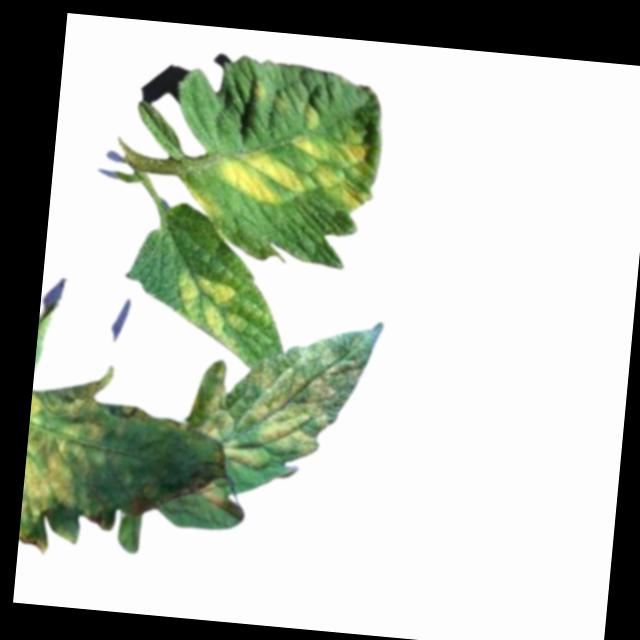Leaf_Mold: (189, 343, 339, 473), (19, 387, 112, 550), (286, 121, 380, 215), (170, 270, 250, 351), (208, 147, 308, 208), (196, 481, 226, 509), (246, 79, 269, 106), (302, 102, 320, 129)
